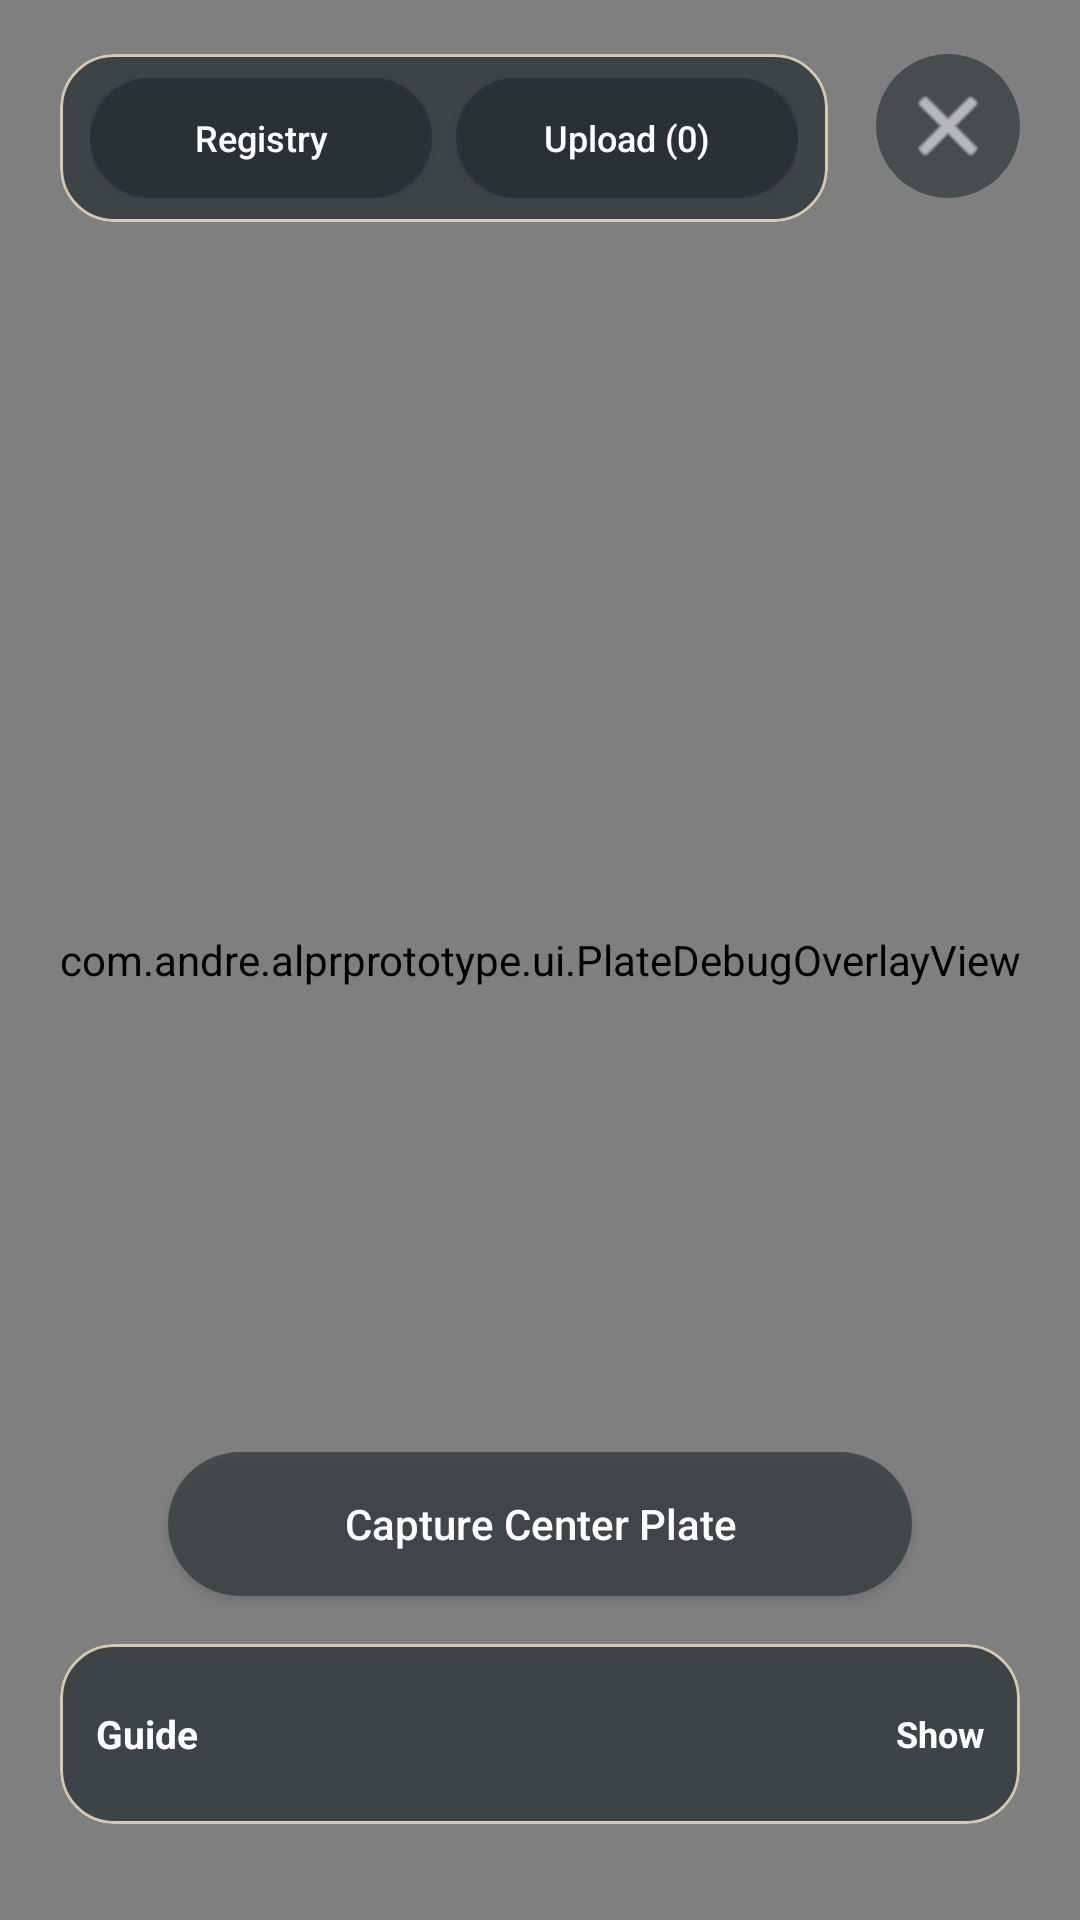

Icons on this 1080*1920 Android screen, each with its box as box(x1, y1, x2, y2):
Close camera: box(876, 54, 1020, 198)
